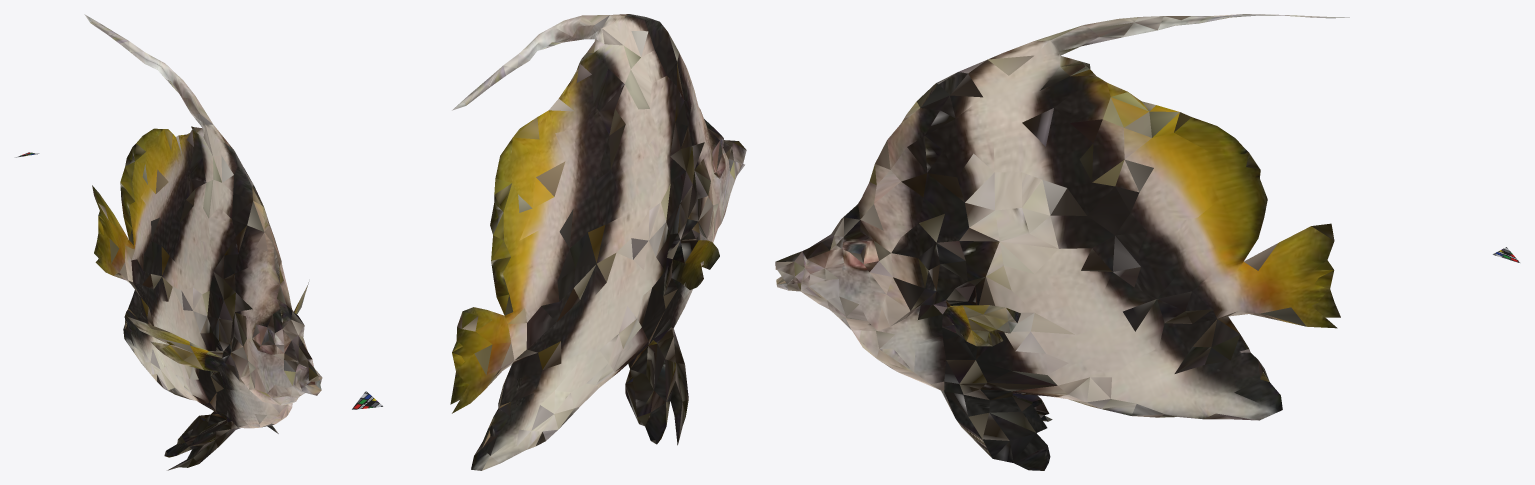
The model's file is coralFish.glb.
The picture shows the model from 3 angles, left to right: view 1: azimuth 30°, elevation 25°; view 2: azimuth 150°, elevation 25°; view 3: azimuth 270°, elevation 25°; orthographic projection. The views are drawn at different scales.
Visible parts, largest first — view 1: coralFish; view 2: coralFish; view 3: coralFish.
Part boxes in pixels (<box>): coralFish: <box>15,14,322,470</box>; coralFish: <box>351,14,746,470</box>; coralFish: <box>775,14,1520,470</box>.
Bounding box in the file's own units: 0.0691 × 0.1309 × 0.2.
Materials: 2 (2 with a texture image).
